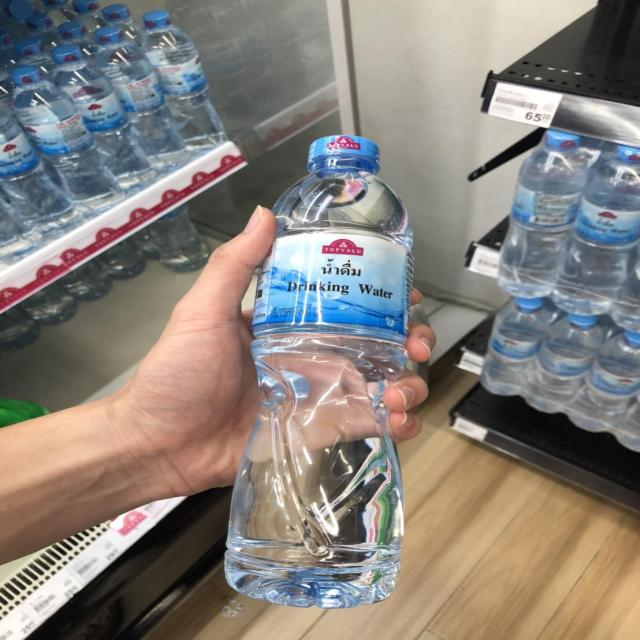bottle: (249, 133, 404, 618)
